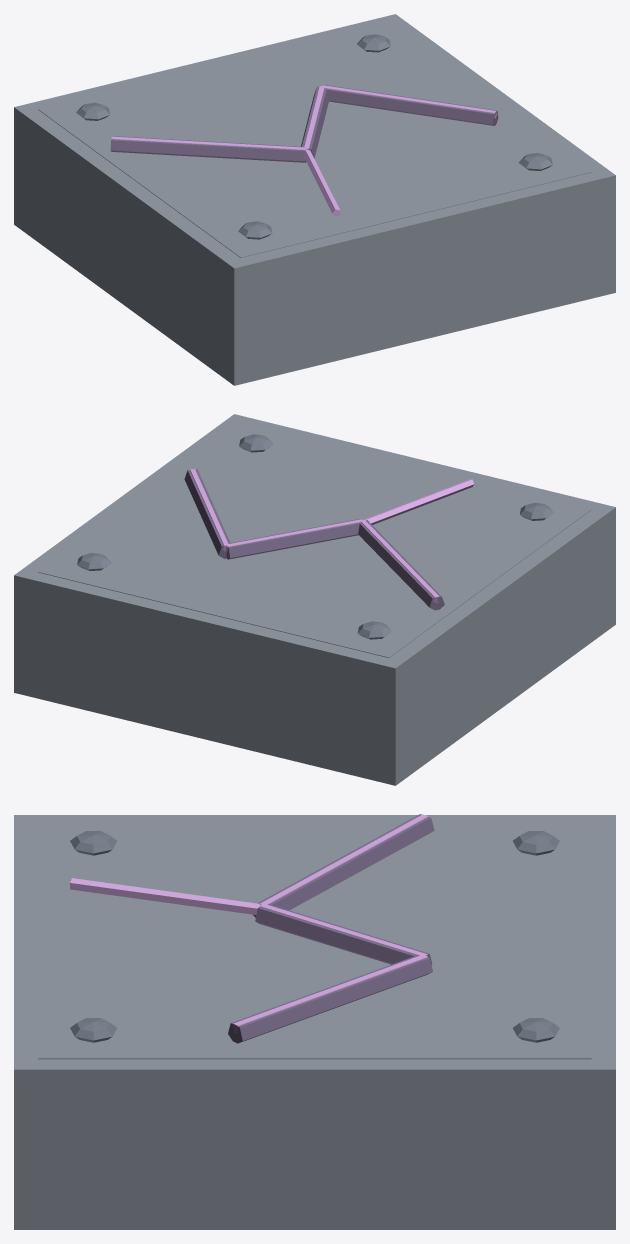
File: losa_agrietada.glb
3 views of the same model, one above another, from view 1: azimuth 30°, elevation 25°; view 2: azimuth 150°, elevation 25°; view 3: azimuth 270°, elevation 25° (orthographic). The views are drawn at different scales.
Parts seen in each view (by area): view 1: losa_agrietada; view 2: losa_agrietada; view 3: losa_agrietada.
Part boxes in pixels (x1,y1,x2,y2): losa_agrietada: (14, 14, 615, 385); losa_agrietada: (14, 414, 615, 785); losa_agrietada: (14, 814, 615, 1229).
Size of the model in its own units: 1.36 by 0.4465 by 1.36.
